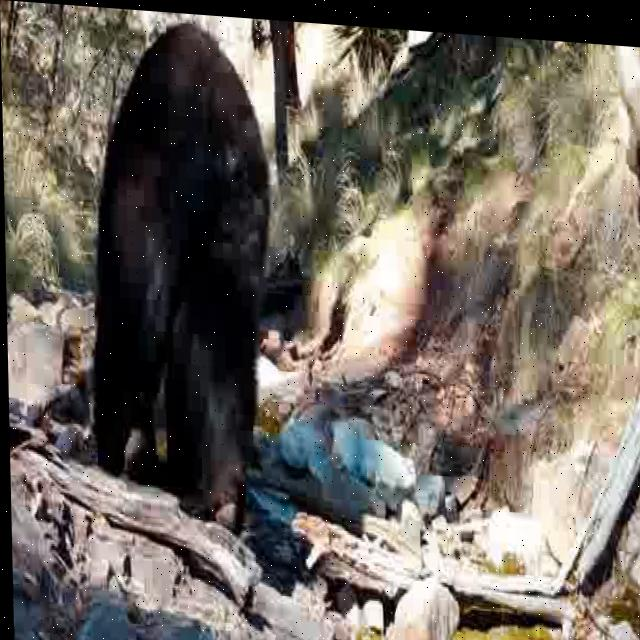bear face: (89, 15, 279, 521)
